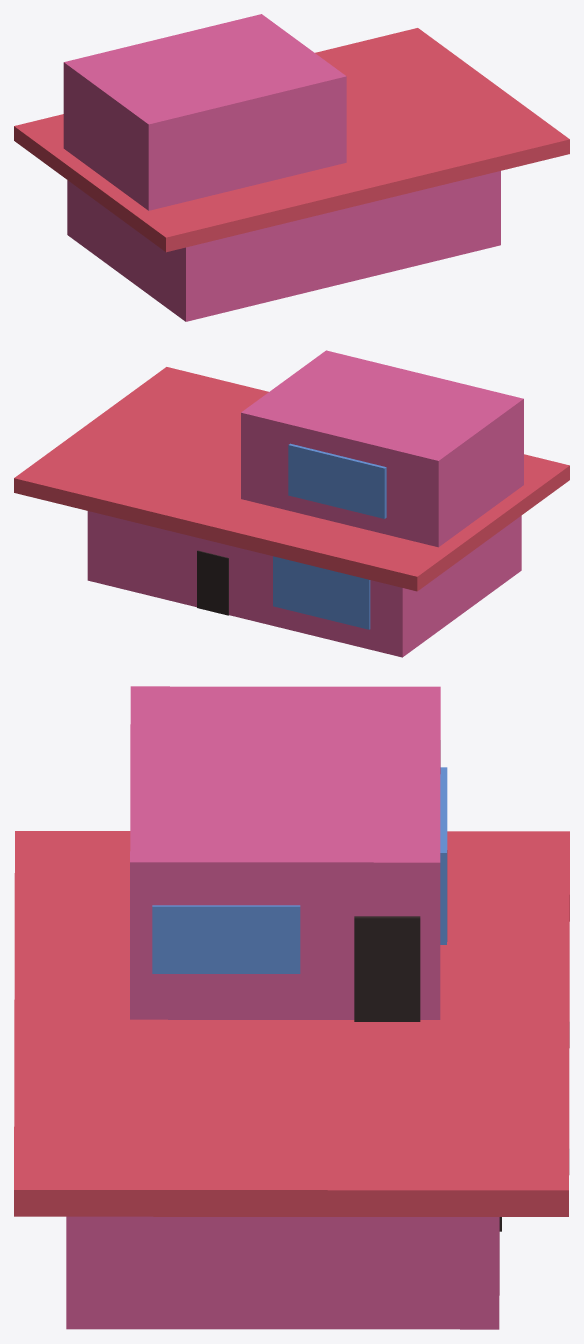
The model's file is Casa_Rosa.fbx.
3 views of the same model, one above another, from view 1: azimuth 30°, elevation 25°; view 2: azimuth 150°, elevation 25°; view 3: azimuth 270°, elevation 25° (orthographic). The views are drawn at different scales.
Visible parts, largest first — view 1: Cube.014, Cube.013, Cube.012; view 2: Cube.013, Cube.014, Cube.012, Window_1.012, Window_1.010, Door_1.004; view 3: Cube.013, Cube.014, Cube.012, Window_1.011, Door_1.006, Window_1.012.
Boxes of the visible parts, x1,y1,x2,y2 form: Cube.014: (63,14,346,210); Cube.013: (14,28,569,252); Cube.012: (67,171,500,321); Cube.013: (14,367,569,591); Cube.014: (241,350,523,547); Cube.012: (87,511,521,657); Window_1.012: (288,443,386,518); Window_1.010: (273,556,370,629); Door_1.004: (197,550,228,615); Cube.013: (14,831,569,1216); Cube.014: (130,686,440,1019); Cube.012: (66,1216,499,1329); Window_1.011: (152,905,300,973); Door_1.006: (354,916,420,1021); Window_1.012: (440,767,447,944).
Size of the model in its own units: 4653 by 3044 by 2086.
